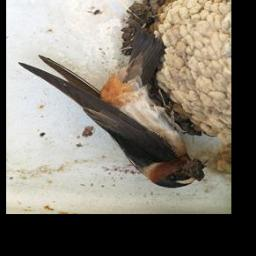Swallow: (16, 53, 204, 189)
